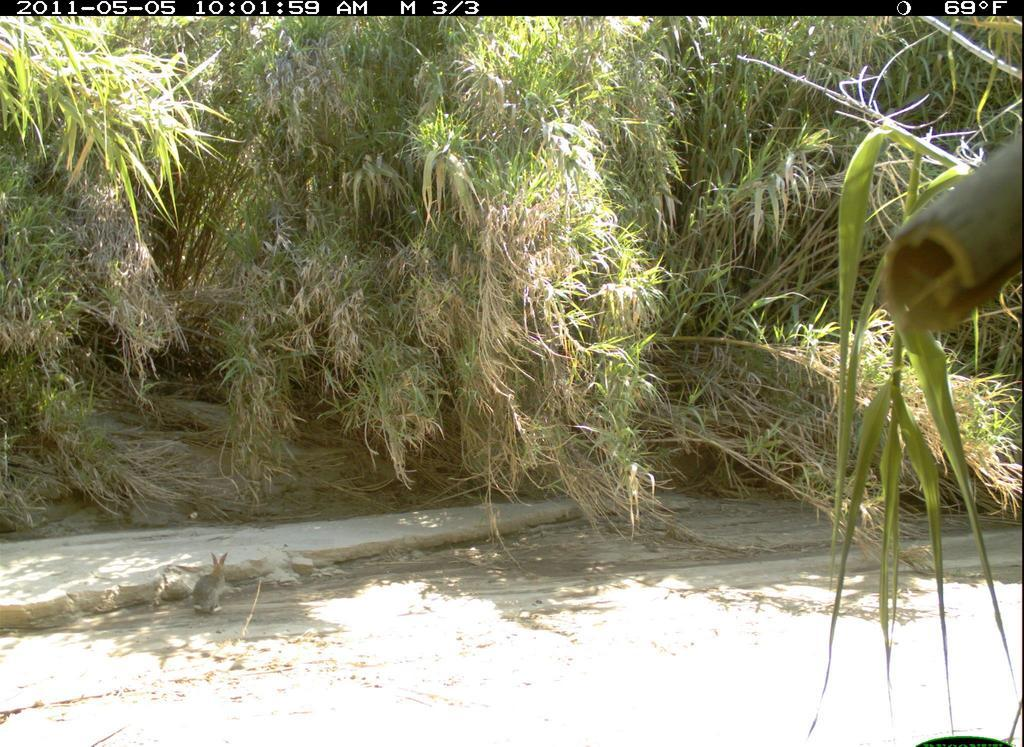rabbit: (185, 548, 242, 617)
